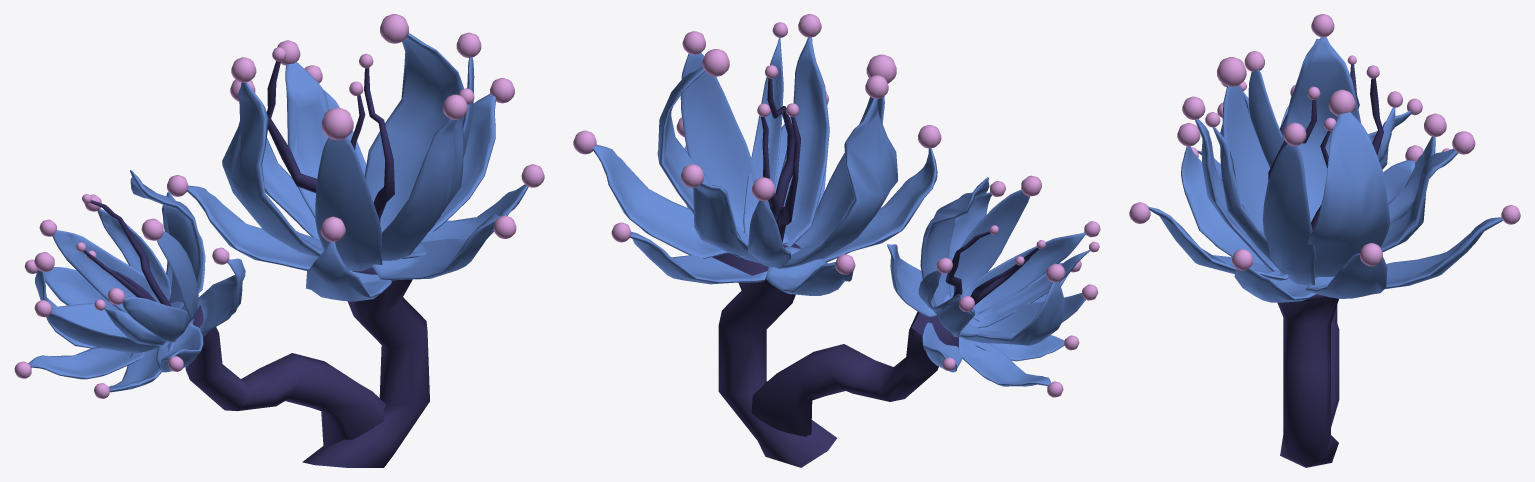
File: Bollenbloem_4.fbx
3 views of the same model, side by side, from view 1: azimuth 30°, elevation 25°; view 2: azimuth 150°, elevation 25°; view 3: azimuth 270°, elevation 25° (orthographic). The views are drawn at different scales.
Visible parts, largest first — view 1: polySurface48; view 2: polySurface48; view 3: polySurface48.
Part boxes in pixels (x1,y1,x2,y2): polySurface48: [14, 14, 544, 467]; polySurface48: [573, 14, 1100, 467]; polySurface48: [1129, 14, 1520, 467].
Bounding box in the file's own units: 0.0932 × 0.074 × 0.0662.
